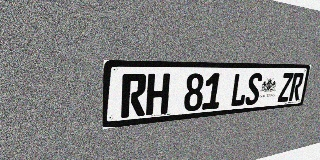1: (202, 73, 223, 110)
8: (183, 73, 205, 112)
H: (146, 73, 170, 116)
L: (230, 73, 249, 107)
R: (121, 74, 147, 118), (288, 73, 304, 101)
S: (244, 73, 263, 106)
Z: (277, 73, 294, 102)
